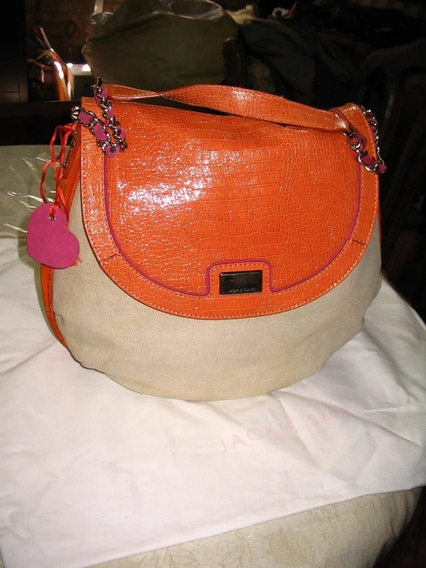cartera: (26, 73, 383, 404)
